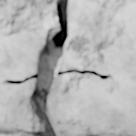broken_brick: (38, 0, 135, 135), (0, 0, 57, 80), (0, 80, 41, 135)
crack: (0, 0, 134, 135)
